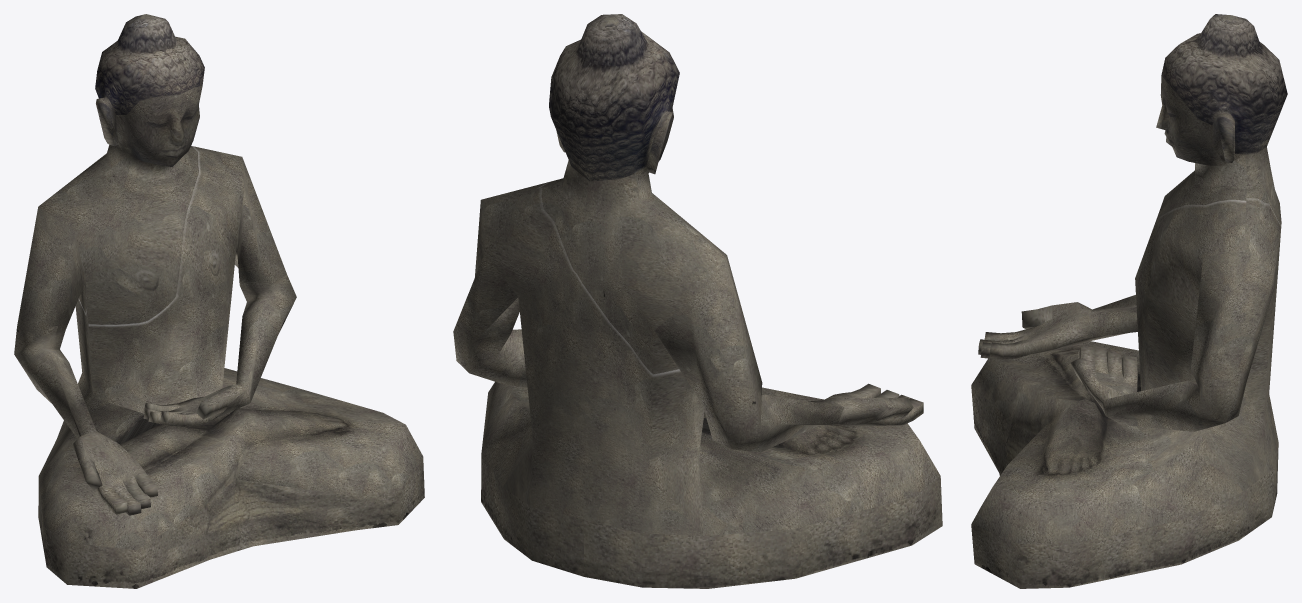
Rendered from Patung_Selatan.FBX.
3 views of the same model, side by side, from view 1: azimuth 30°, elevation 25°; view 2: azimuth 150°, elevation 25°; view 3: azimuth 270°, elevation 25° (orthographic). The views are drawn at different scales.
Visible parts, largest first — view 1: Patung_Selatan; view 2: Patung_Selatan; view 3: Patung_Selatan.
Boxes of the visible parts, <box> form: Patung_Selatan: <box>14,14,424,588</box>; Patung_Selatan: <box>453,14,942,588</box>; Patung_Selatan: <box>971,14,1287,588</box>.
Bounding box in the file's own units: 0.7908 × 0.9594 × 0.572.
